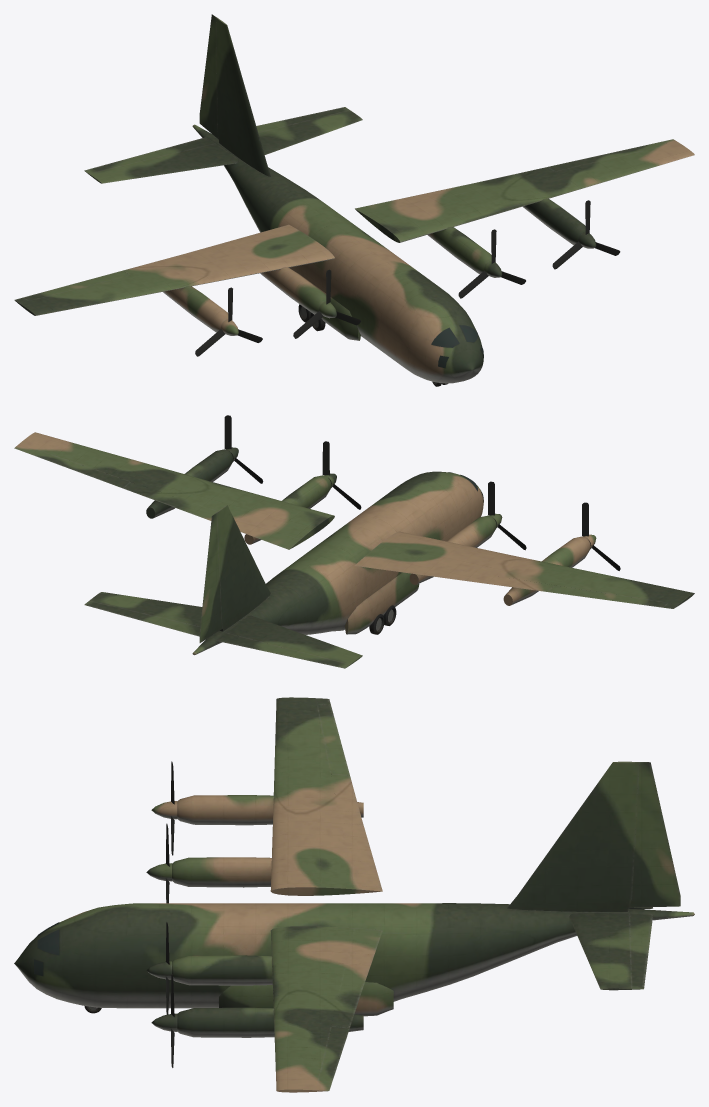
3 renders of one model, top to bottom at view 1: azimuth 30°, elevation 25°; view 2: azimuth 150°, elevation 25°; view 3: azimuth 270°, elevation 25°, orthographic. The views are drawn at different scales.
Parts seen in each view (by area): view 1: than, canh_lai_huong, canh_lai_do_cao_phai, canh_quat_2, canh_quat_1, canh_quat_3, canh_quat_4, canh_lien_trai, canh_lien_phai, canh_lai_do_cao_trai; view 2: than, canh_lai_huong, canh_lai_do_cao_phai, canh_lai_do_cao_trai, canh_lien_trai, canh_lien_phai, canh_quat_2, canh_quat_1, canh_quat_4, canh_quat_3; view 3: than, canh_lai_huong, canh_lai_do_cao_trai, canh_lien_phai, canh_lien_trai, canh_quat_2, canh_quat_4.
Part boxes in pixels (x1,y1,x2,y2): than: (14, 17, 694, 383); canh_lai_huong: (199, 14, 218, 138); canh_lai_do_cao_phai: (84, 137, 215, 174); canh_quat_2: (552, 200, 620, 269); canh_quat_1: (458, 229, 525, 298); canh_quat_3: (293, 269, 360, 338); canh_quat_4: (195, 287, 262, 356); canh_lien_trai: (548, 141, 667, 171); canh_lien_phai: (23, 270, 130, 300); canh_lai_do_cao_trai: (256, 107, 349, 132); than: (14, 432, 694, 665); canh_lai_huong: (199, 512, 222, 642); canh_lai_do_cao_phai: (216, 633, 349, 668); canh_lai_do_cao_trai: (84, 601, 200, 636); canh_lien_trai: (23, 447, 130, 488); canh_lien_phai: (548, 585, 667, 607); canh_quat_2: (224, 415, 263, 483); canh_quat_1: (322, 441, 361, 509); canh_quat_4: (582, 502, 620, 570); canh_quat_3: (488, 481, 526, 550); than: (14, 697, 694, 1092); canh_lai_huong: (629, 762, 680, 907); canh_lai_do_cao_trai: (629, 913, 652, 989); canh_lien_phai: (317, 704, 349, 775); canh_lien_trai: (317, 1026, 349, 1085); canh_quat_2: (151, 974, 177, 1067); canh_quat_4: (151, 761, 177, 855).
Bounding box in the file's own units: 40.4 × 11.93 × 29.65.
Materials: 1 (1 with a texture image).
